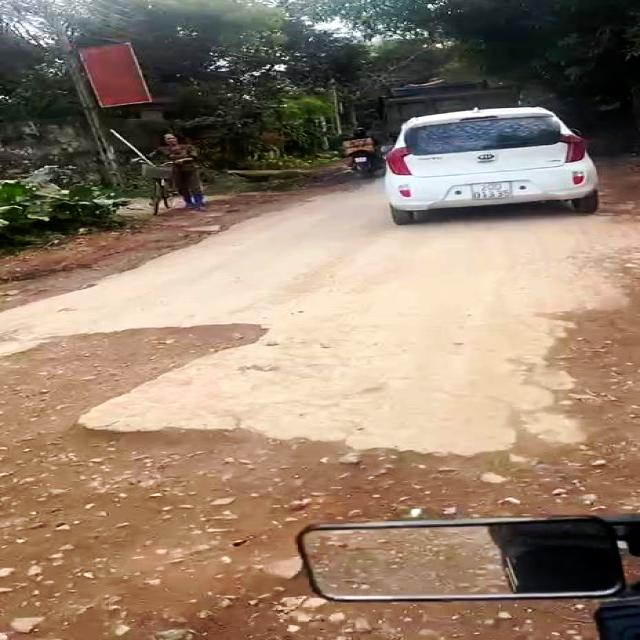pothole: (0, 421, 640, 640), (0, 317, 286, 435), (525, 301, 640, 466)
